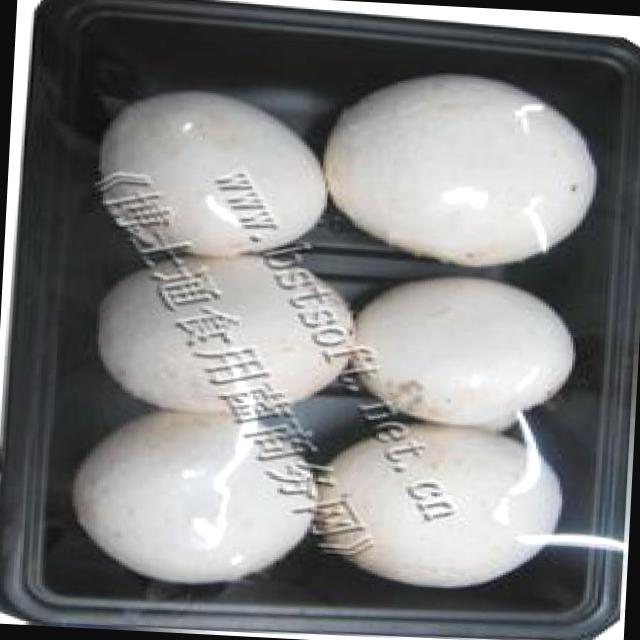Agaricus bisporus: (322, 80, 604, 269), (63, 408, 317, 588), (94, 249, 356, 416), (319, 428, 561, 590), (95, 87, 327, 255), (357, 282, 572, 424)
